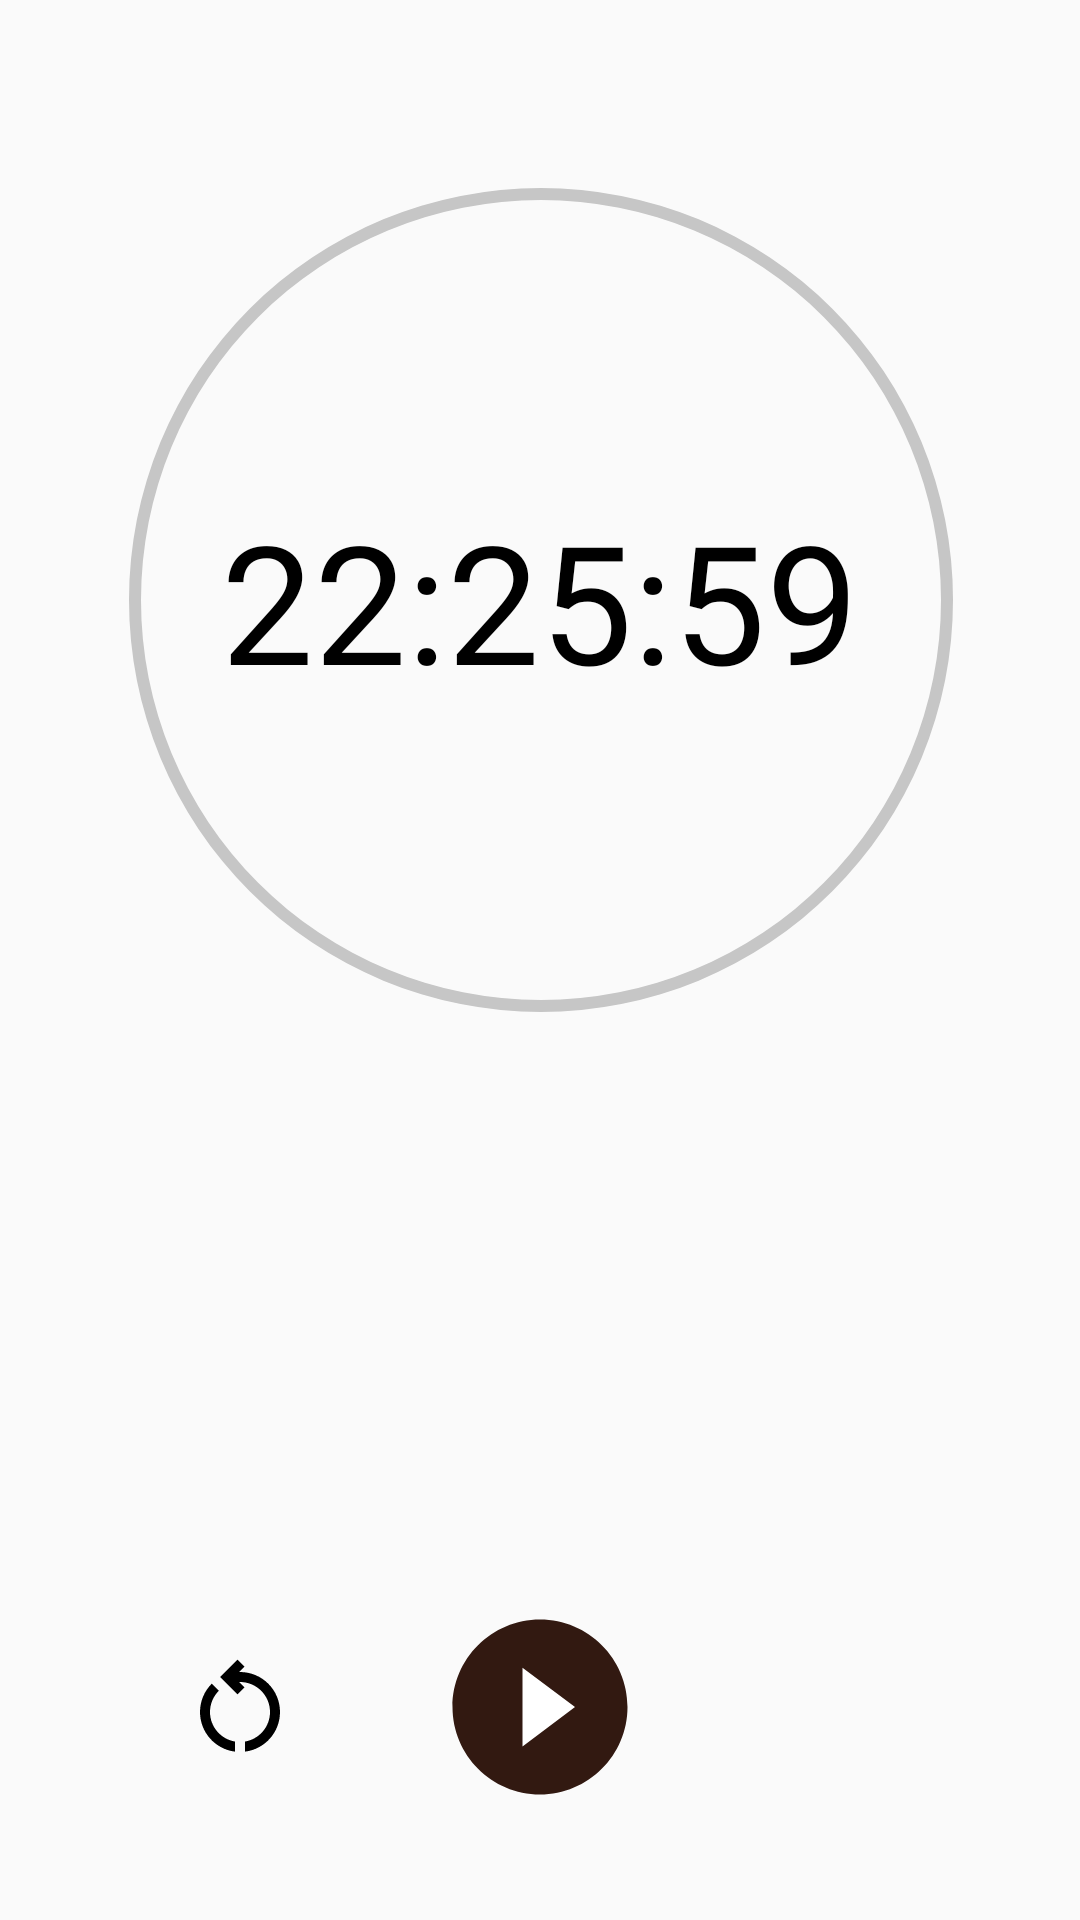

Icon bounding boxes for this 1080 × 1920 phone screenshot, format rect(x1, y1, x2, y2):
play: rect(452, 1619, 628, 1795)
reset: rect(200, 1659, 280, 1752)
